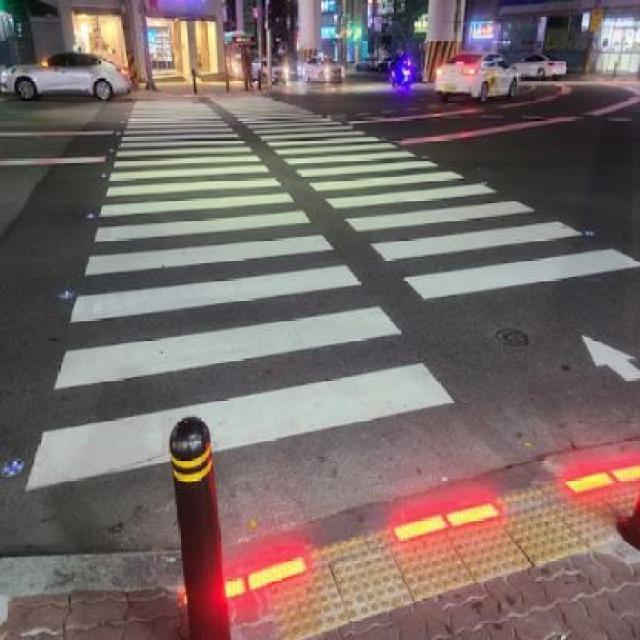crosswalk: (5, 99, 512, 556), (216, 91, 640, 329)
